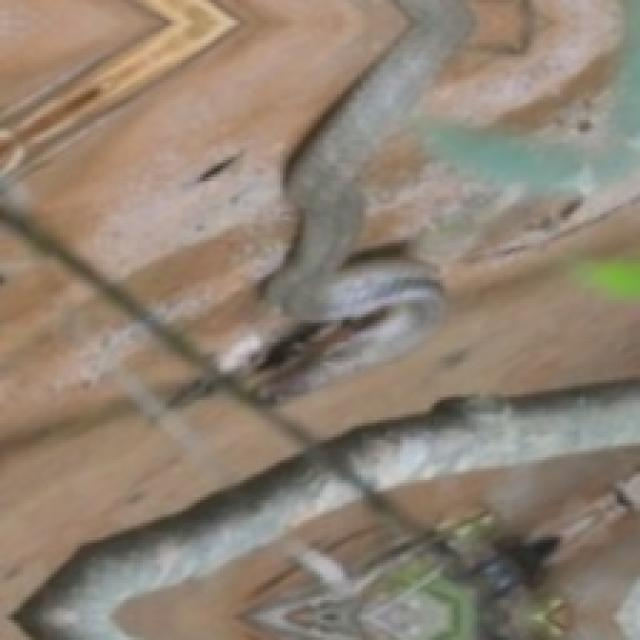king cobra: (246, 0, 637, 420), (14, 383, 637, 637)
